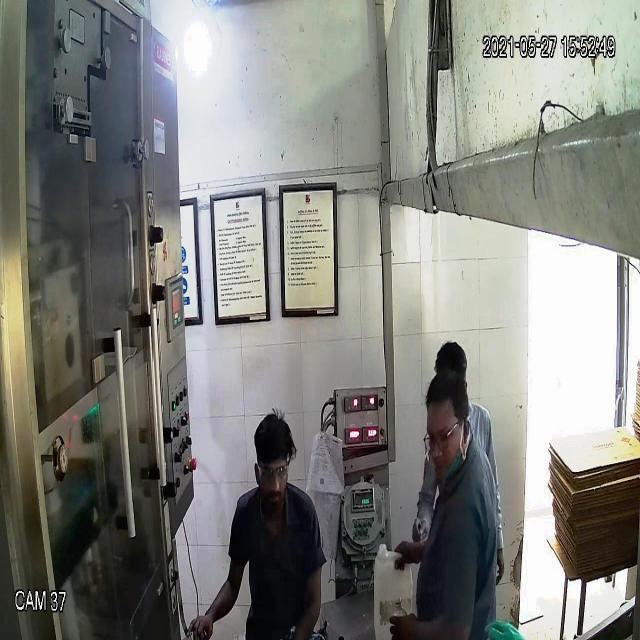glasses: (422, 421, 466, 455), (254, 460, 292, 488)
